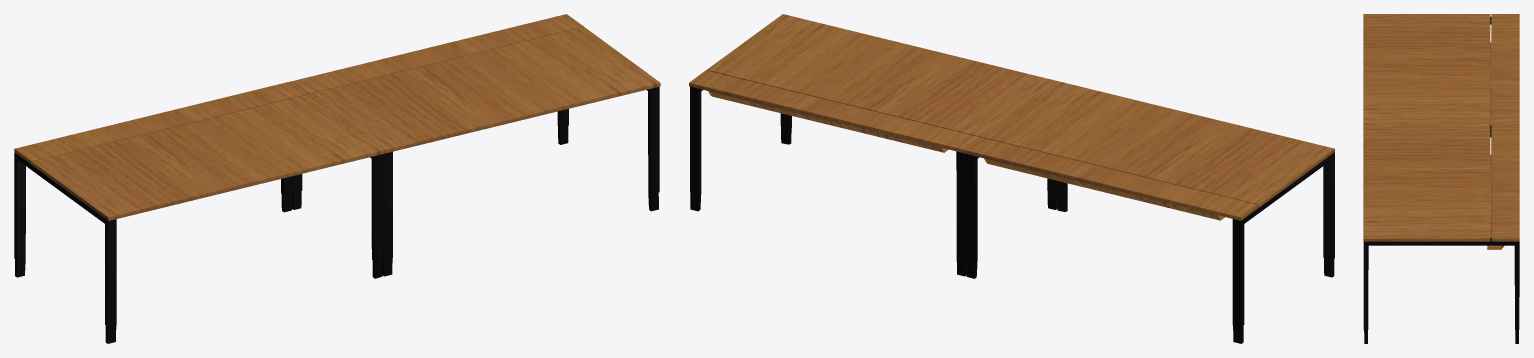
The model's file is Mesa.obj.
3 views of the same model, side by side, from view 1: azimuth 30°, elevation 25°; view 2: azimuth 150°, elevation 25°; view 3: azimuth 270°, elevation 25° (orthographic). The views are drawn at different scales.
Parts seen in each view (by area): view 1: Escritorio070; view 2: Escritorio070; view 3: Escritorio070.
Part boxes in pixels (x1,y1,x2,y2): Escritorio070: [14, 14, 660, 343]; Escritorio070: [689, 14, 1334, 343]; Escritorio070: [1363, 14, 1519, 343].
Size of the model in its own units: 40.2 by 8.83 by 11.84.
4 materials, 4 textured.
